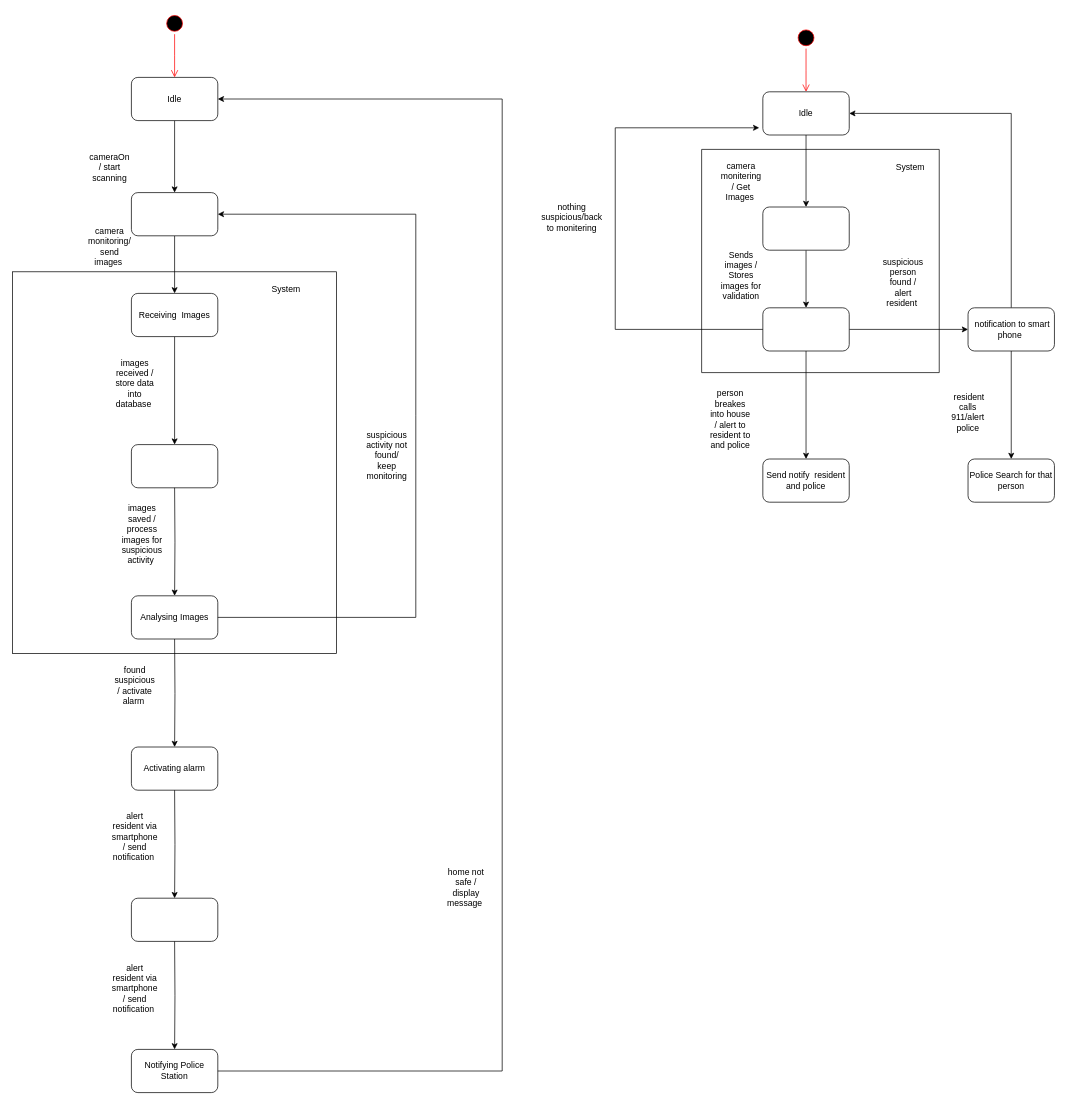
The diagram is 1067 pixels wide and 1105 high, and some of its shapes have lost their labels. The shapes that lost their labels are listed below. From the top down, each one's centre as x and y in pixels, then its label:
At (174,214): "Camera scanning".
At (805,228): "Waiting for Images".
At (805,329): "Validate Images".
At (174,466): "Storing images in database".
At (174,919): "Notifying resident".
